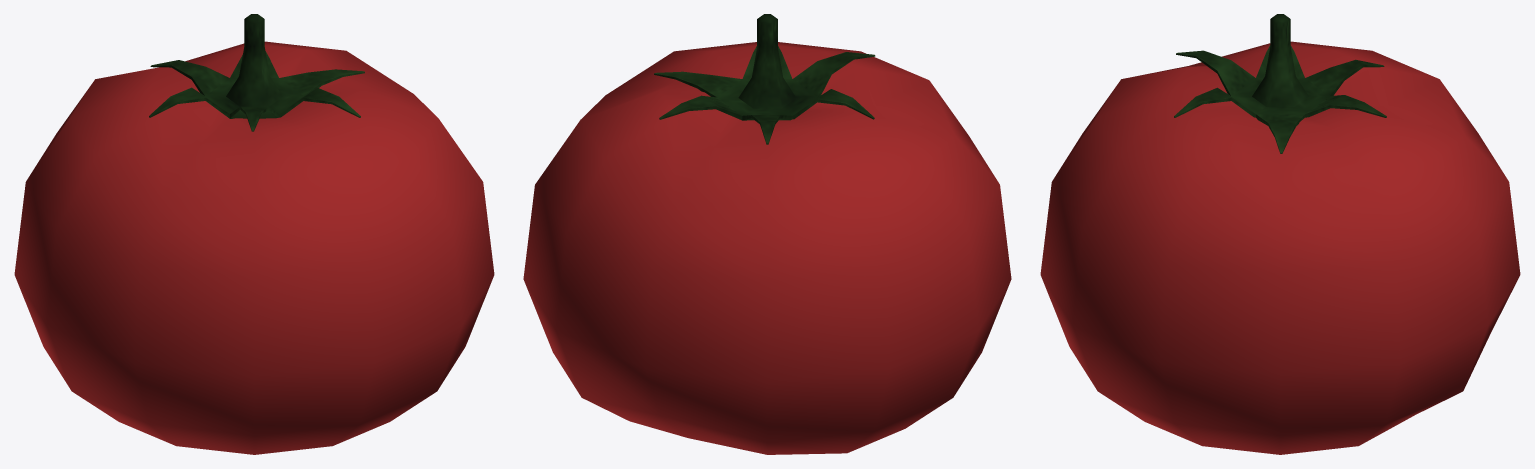
Rendered from Tomato Red.fbx.
3 renders of one model, left to right at view 1: azimuth 30°, elevation 25°; view 2: azimuth 150°, elevation 25°; view 3: azimuth 270°, elevation 25°, orthographic.
Parts seen in each view (by area): view 1: Tomato_red; view 2: Tomato_red; view 3: Tomato_red.
Part boxes in pixels (bbox=[...]): Tomato_red: bbox=[14, 14, 494, 454]; Tomato_red: bbox=[523, 14, 1011, 454]; Tomato_red: bbox=[1040, 14, 1520, 454].
Size of the model in its own units: 194 by 180 by 197.
